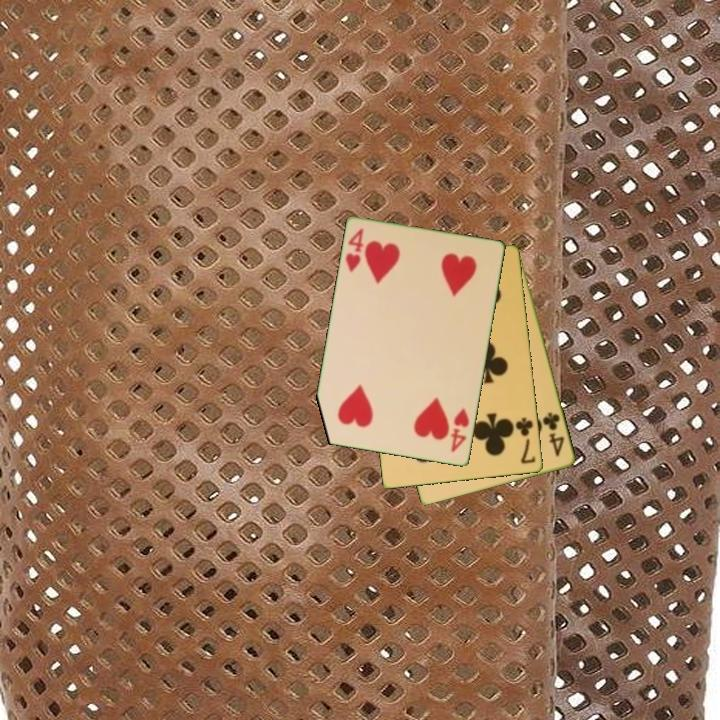4c: (539, 409, 567, 460)
4h: (447, 404, 472, 455), (342, 225, 367, 276)
7c: (512, 414, 539, 467)
